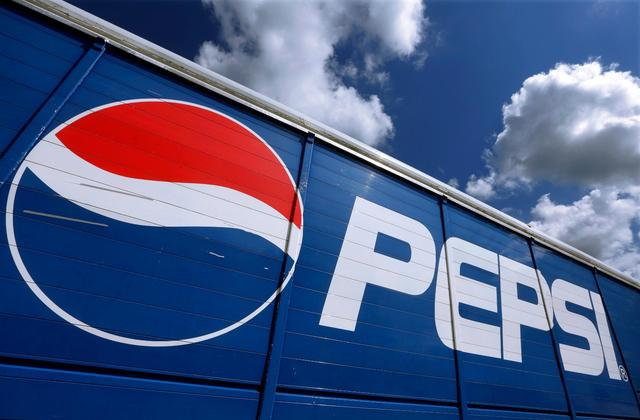pepsi: (7, 89, 303, 346), (4, 96, 303, 346), (7, 96, 303, 346)
